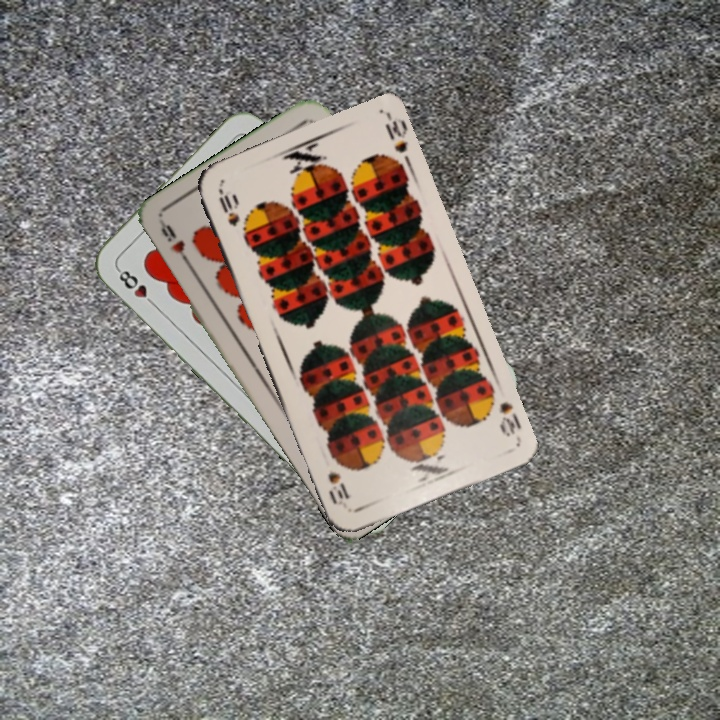H8: (113, 264, 159, 310)
H9: (156, 218, 195, 271)
S10: (214, 183, 243, 229), (495, 397, 524, 440)
